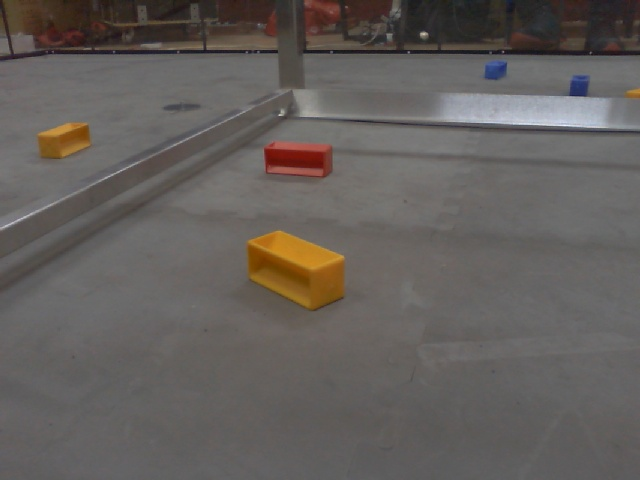BlueSample: (567, 74, 591, 96), (485, 59, 508, 81)
RedSample: (262, 140, 334, 179)
YellowSample: (243, 228, 347, 311), (39, 120, 94, 160), (623, 84, 640, 99)
